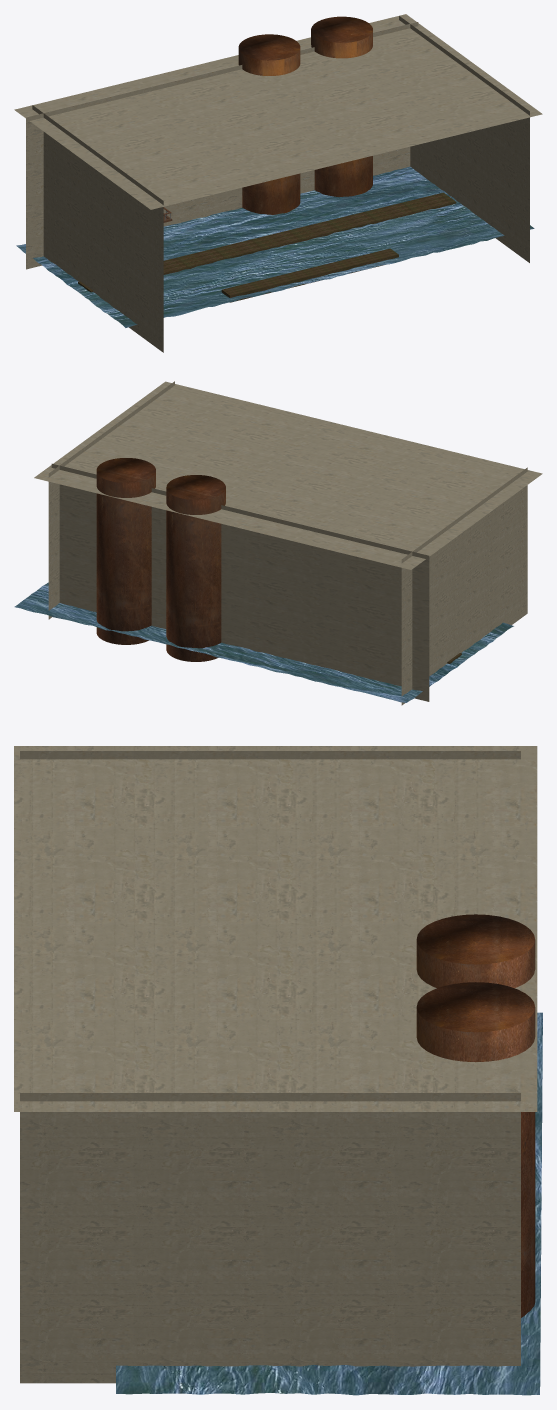
Rendered from CoolingRoom.glb.
3 renders of one model, top to bottom at view 1: azimuth 30°, elevation 25°; view 2: azimuth 150°, elevation 25°; view 3: azimuth 270°, elevation 25°, orthographic. The views are drawn at different scales.
Parts seen in each view (by area): view 1: Wall, PlaneShape_0.001, FloorBack, Pipe, Pipe 2, Floor; view 2: Wall, Pipe 2, Pipe, PlaneShape_0.001; view 3: Wall, PlaneShape_0.001, Pipe 2, Pipe.
Boxes of the visible parts, x1=… form: Wall: x1=14, y1=14, x2=542, y2=352; PlaneShape_0.001: x1=16, y1=166, x2=534, y2=327; FloorBack: x1=78, y1=192, x2=456, y2=292; Pipe: x1=238, y1=34, x2=300, y2=214; Pipe 2: x1=311, y1=16, x2=372, y2=197; Floor: x1=221, y1=248, x2=398, y2=302; Wall: x1=34, y1=381, x2=542, y2=705; Pipe 2: x1=96, y1=458, x2=155, y2=644; Pipe: x1=166, y1=475, x2=225, y2=661; PlaneShape_0.001: x1=14, y1=582, x2=513, y2=702; Wall: x1=14, y1=746, x2=537, y2=1383; PlaneShape_0.001: x1=116, y1=1012, x2=542, y2=1395; Pipe 2: x1=416, y1=982, x2=535, y2=1317; Pipe: x1=416, y1=914, x2=535, y2=988.
Size of the model in its own units: 94.76 by 36.7 by 54.68.
Materials: 19 (19 with a texture image).
